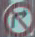Don't turn right: (2, 0, 34, 34)
